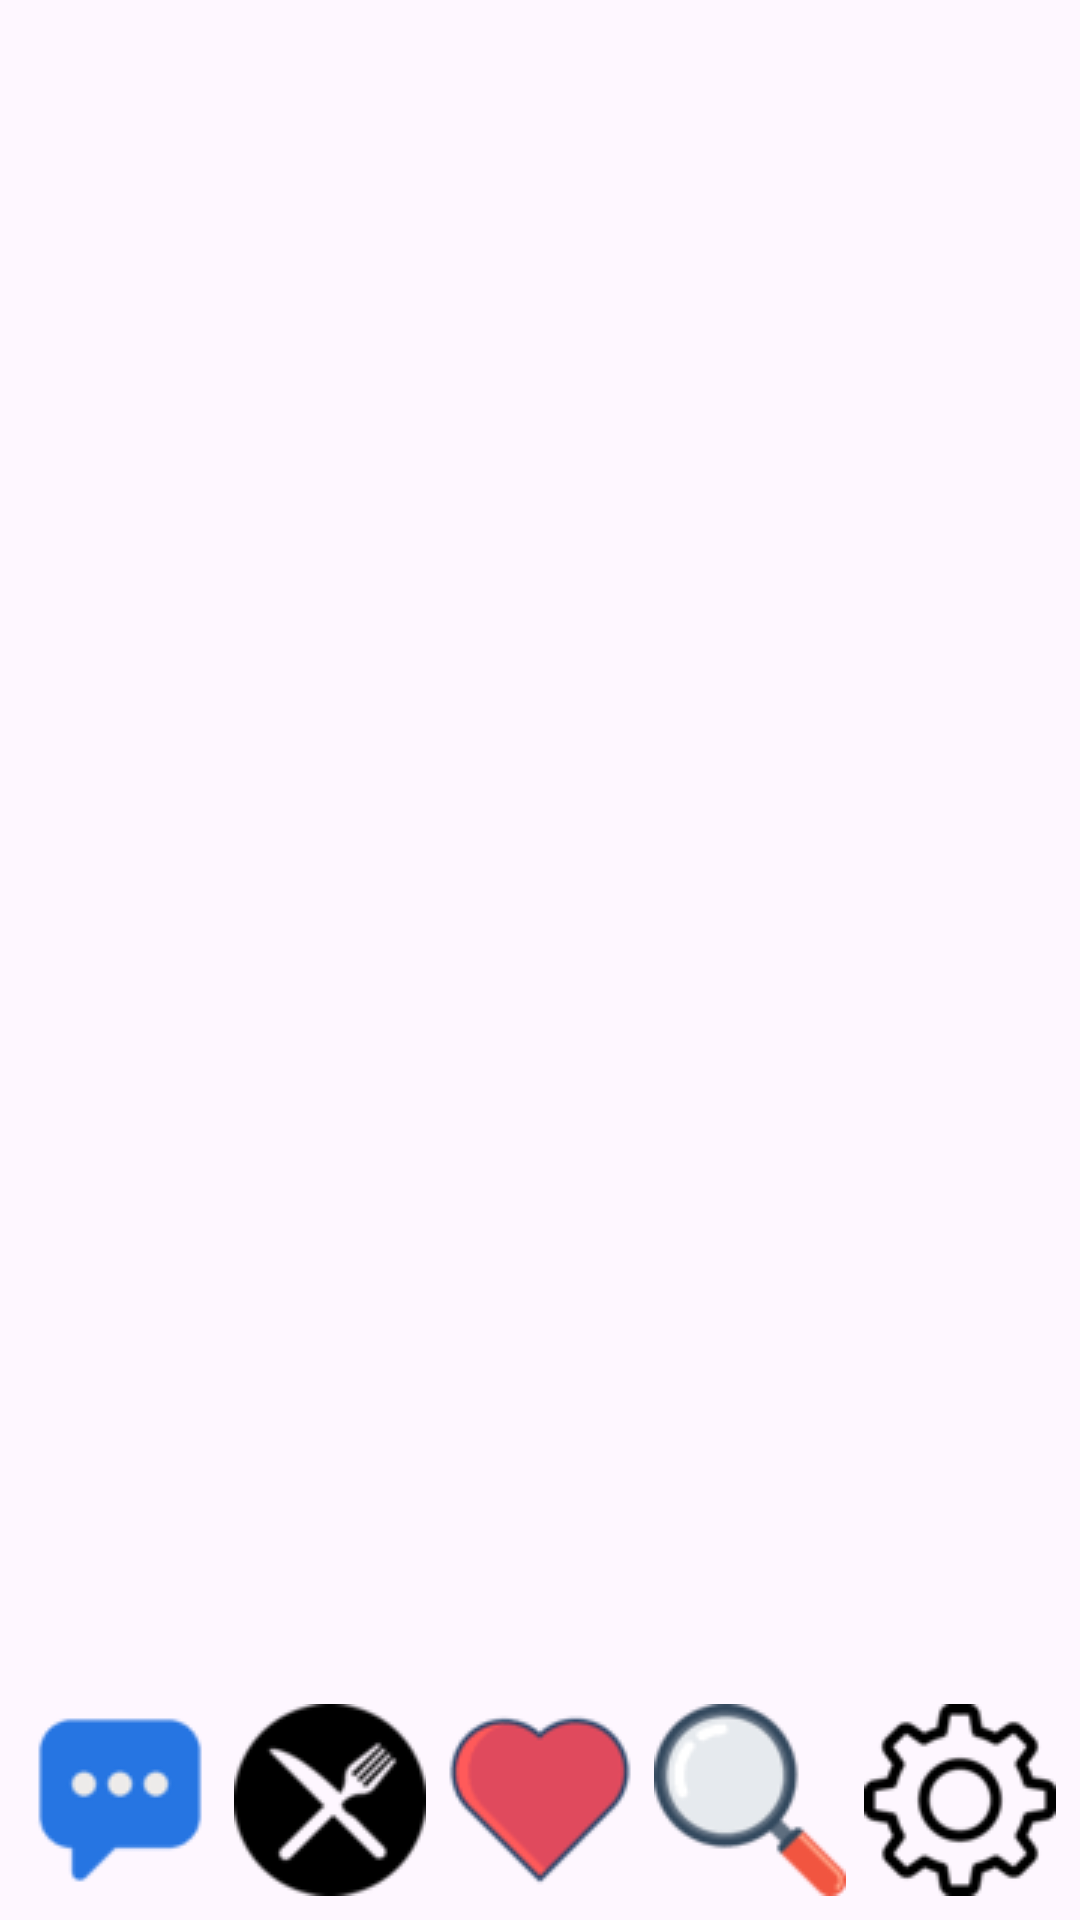

Where to tap for icons on this 1080px x 1920px app screen, as point (x, y):
Chat: point (120, 1800)
Favourites: point (540, 1799)
Search: point (750, 1800)
Settings: point (960, 1800)
